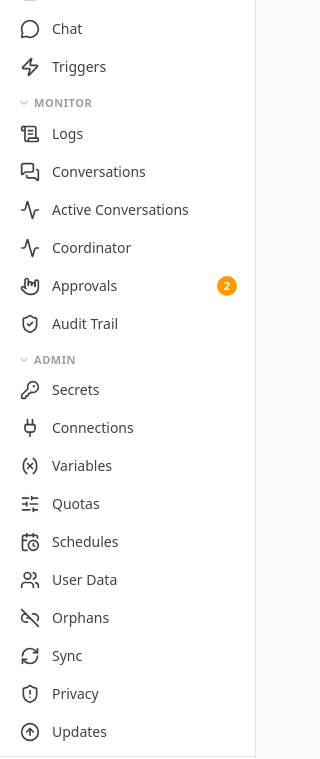
Test: Sidebar › re-expands a collapsed section when header is clicked again
The width and height of the screenshot is (320, 759).
(page scrolled)
Click the button "Admin" at (128, 360), box 6,352 -> 249,368
(page scrolled)
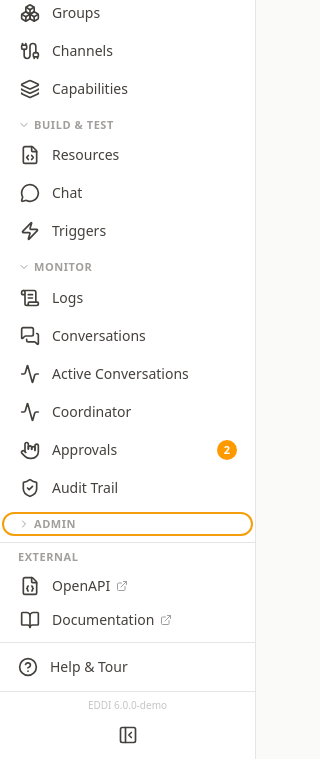
Expected: the link "Secrets" is gone
Expand again
Click the button "Admin" at (128, 524), box 6,516 -> 249,532
(page scrolled)
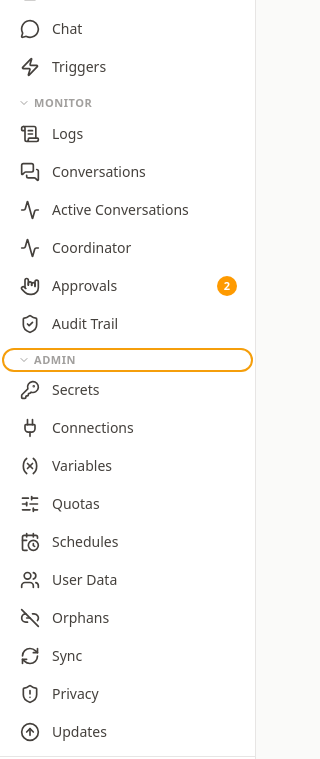
Expected: the text "Secrets" is shown, 52,380 -> 100,400
